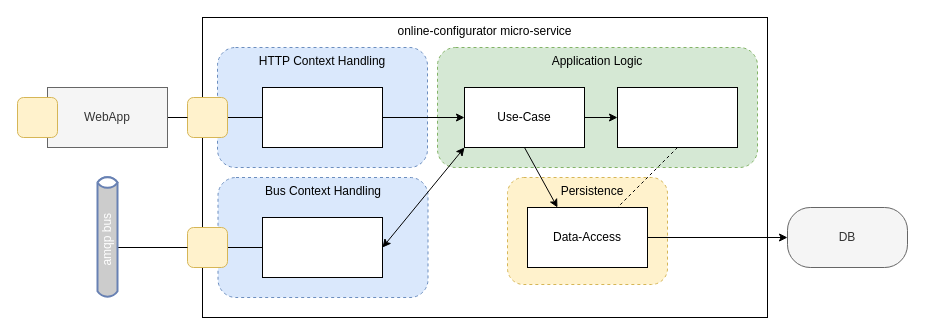
Some shapes in this 925 by 335 pixel diagram are drawn without their labels. The shapes that lost their labels are listed below. From the top down, each one's centre as x and y in pixels, then its label:
the point at 37,117: Web
the point at 207,117: REST API
the point at 322,117: HTTP-Controller
the point at 677,117: Entities
the point at 207,247: AMQP MSGs
the point at 322,247: AMQP-Controller
